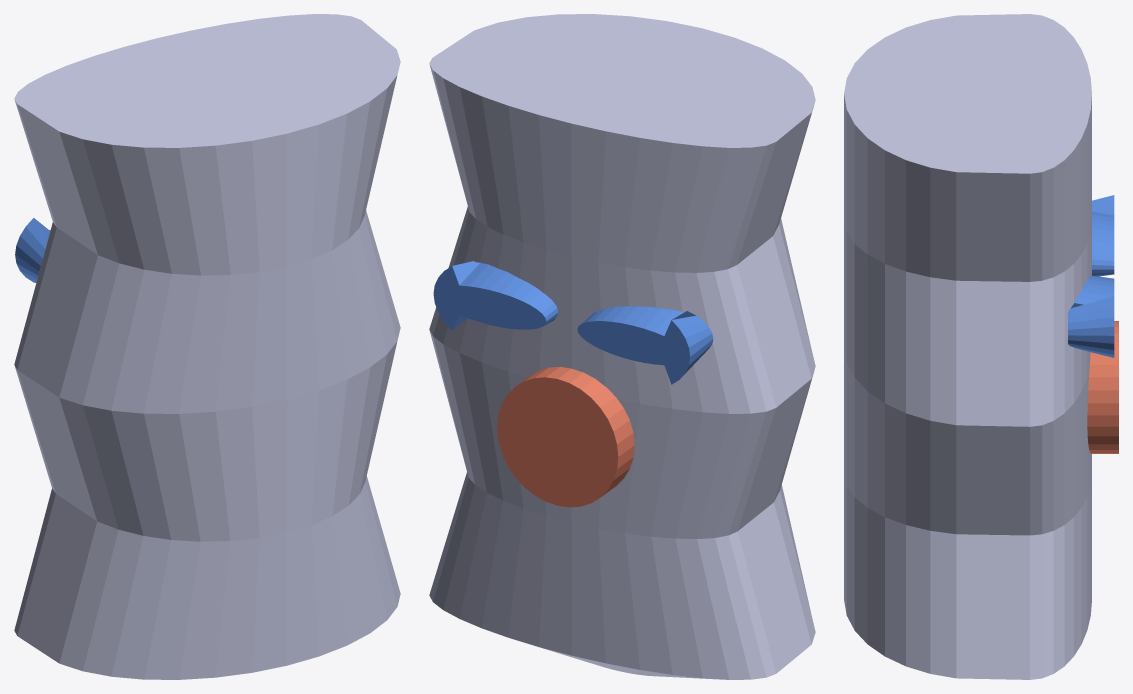
Rendered from puntero laserr.fbx.
3 views of the same model, side by side, from view 1: azimuth 30°, elevation 25°; view 2: azimuth 150°, elevation 25°; view 3: azimuth 270°, elevation 25° (orthographic). The views are drawn at different scales.
Visible parts, largest first — view 1: Cilindro, Cilindro.002; view 2: Cilindro, Cilindro.001, Cilindro.002, Cilindro.003; view 3: Cilindro, Cilindro.001, Cilindro.003, Cilindro.002.
Part boxes in pixels (<box>): Cilindro: <box>14,14,400,679</box>; Cilindro.002: <box>15,218,50,282</box>; Cilindro: <box>429,14,815,679</box>; Cilindro.001: <box>497,367,634,507</box>; Cilindro.002: <box>577,306,713,384</box>; Cilindro.003: <box>433,261,558,330</box>; Cilindro: <box>844,14,1091,679</box>; Cilindro.001: <box>1087,321,1118,453</box>; Cilindro.003: <box>1068,275,1114,357</box>; Cilindro.002: <box>1092,195,1114,276</box>.
Size of the model in its own units: 67.67 by 109 by 49.21.
